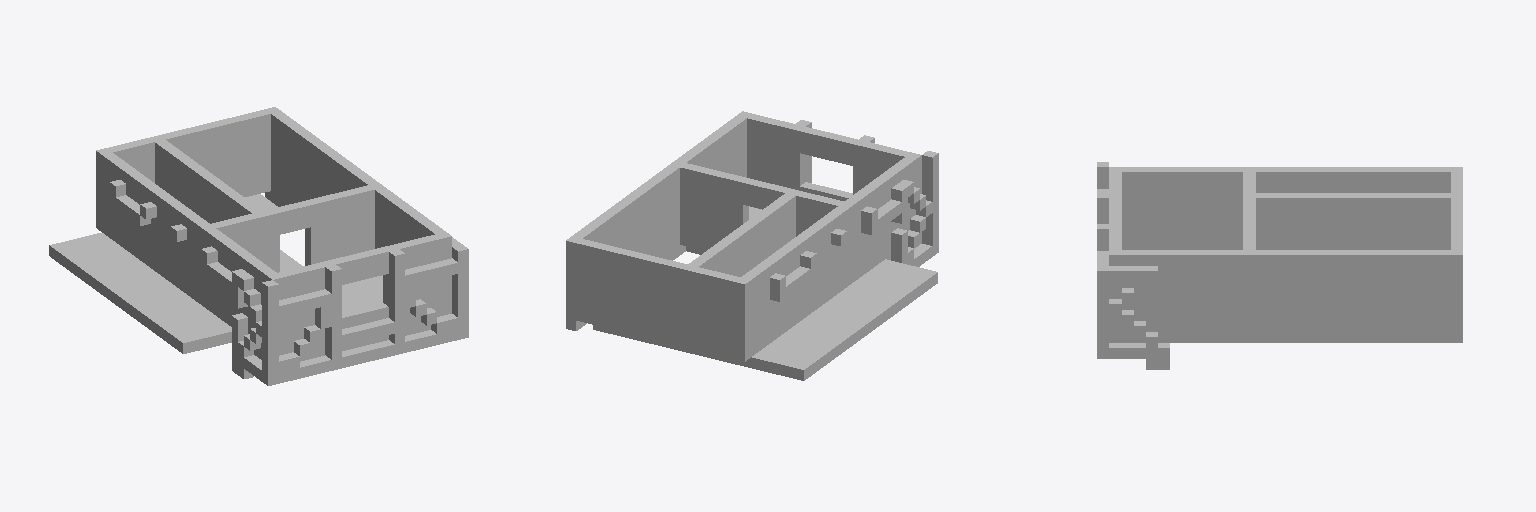
File: Farm House-6.obj
3 views of the same model, side by side, from view 1: azimuth 30°, elevation 25°; view 2: azimuth 150°, elevation 25°; view 3: azimuth 270°, elevation 25° (orthographic).
Visible parts, largest first — view 1: object 1; view 2: object 1; view 3: object 1.
Part boxes in pixels (left/top/right/bottom): object 1: left=49, top=107, right=468, bottom=385; object 1: left=566, top=111, right=938, bottom=380; object 1: left=1097, top=162, right=1462, bottom=369.
Size of the model in its own units: 2.3 by 1 by 3.